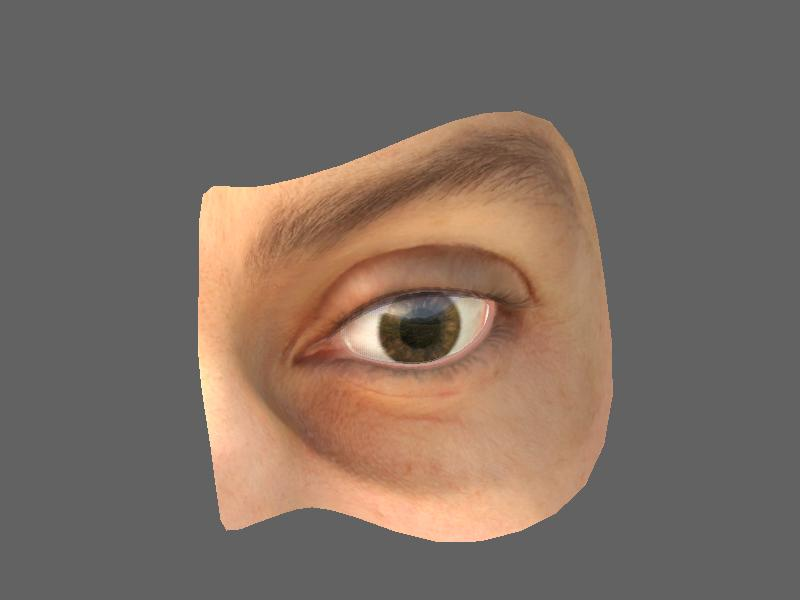iris: (382, 292, 467, 363)
